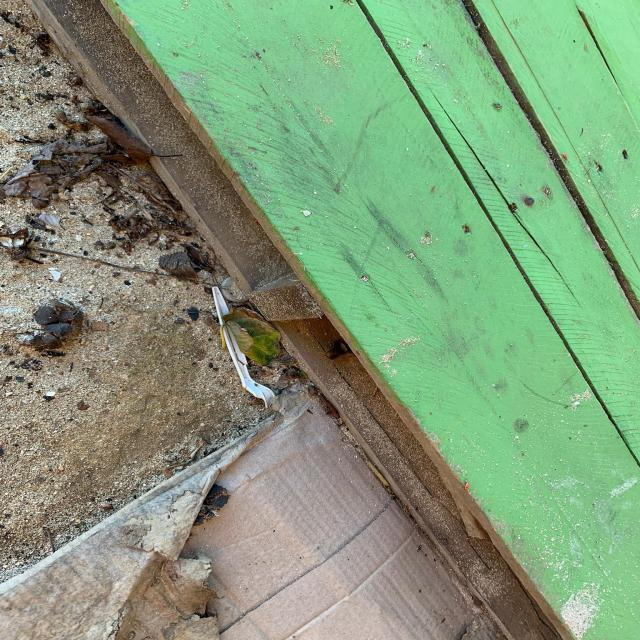litter: (5, 394, 503, 637), (209, 284, 285, 408)
